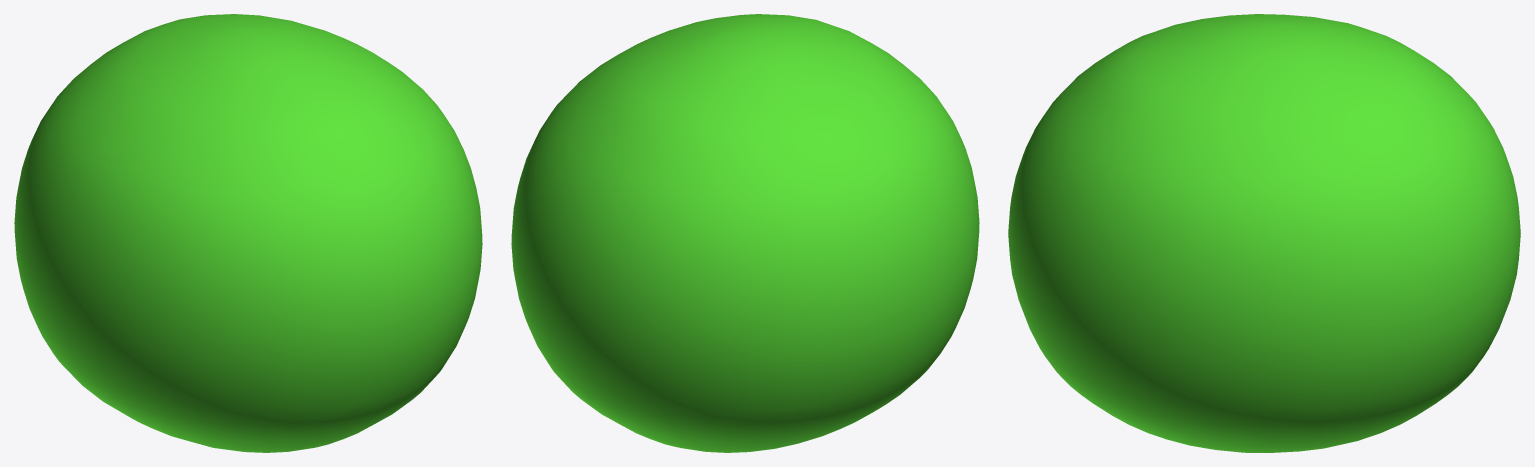
Rendered from SnakeBody_green.fbx.
3 renders of one model, left to right at view 1: azimuth 30°, elevation 25°; view 2: azimuth 150°, elevation 25°; view 3: azimuth 270°, elevation 25°, orthographic. The views are drawn at different scales.
Visible parts, largest first — view 1: BodyPart.029; view 2: BodyPart.029; view 3: BodyPart.029.
Boxes of the visible parts, x1=… form: BodyPart.029: x1=14, y1=14, x2=482, y2=452; BodyPart.029: x1=511, y1=14, x2=979, y2=452; BodyPart.029: x1=1008, y1=14, x2=1520, y2=452.
Size of the model in its own units: 187 by 172 by 202.
